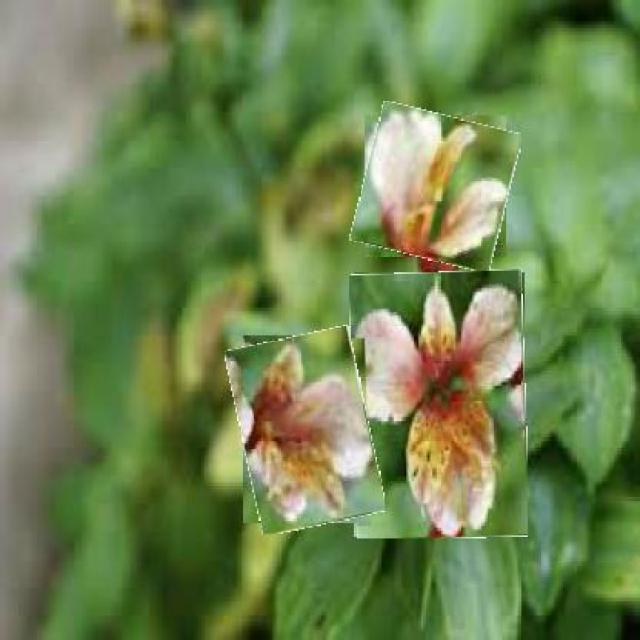Flower: (352, 271, 529, 540), (234, 330, 378, 530), (358, 108, 515, 266)
